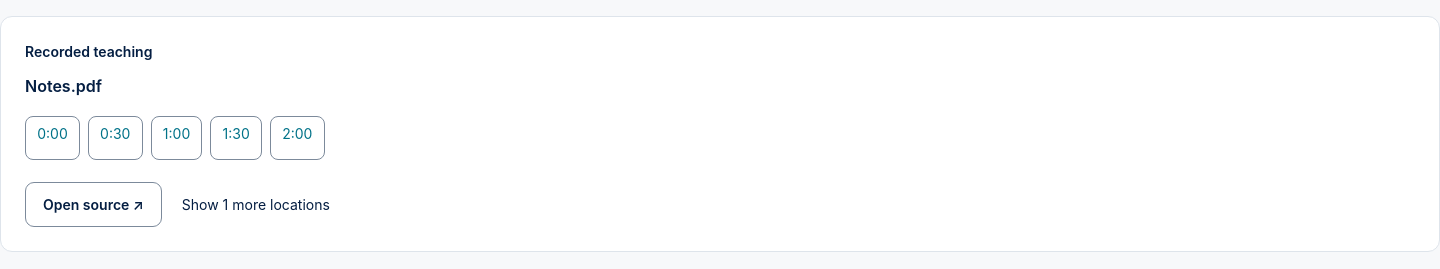
Scenario: real recording offset zero remains valid and additional locations can expand
Expected: the link "0:00" is shown, left=25, top=116, right=80, bottom=160
Step 1. Click the button "Show 1 more locations" → (256, 204), box left=182, top=182, right=330, bottom=226
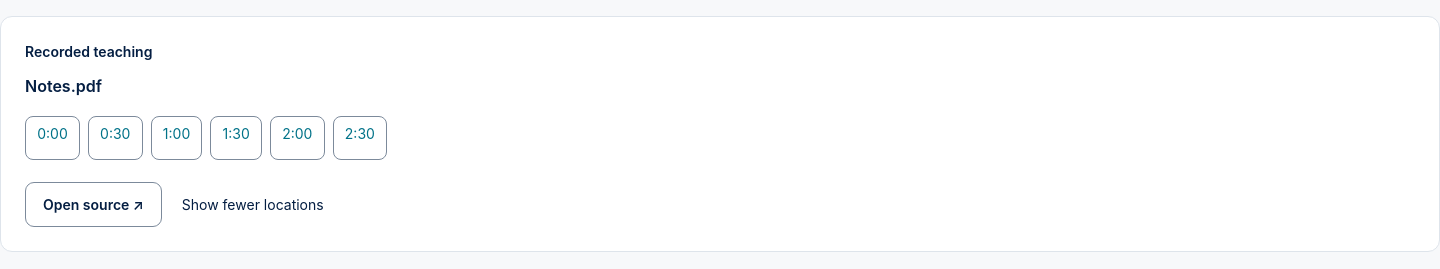
Expected: the button "Show fewer locations" is expanded, left=182, top=182, right=324, bottom=226
